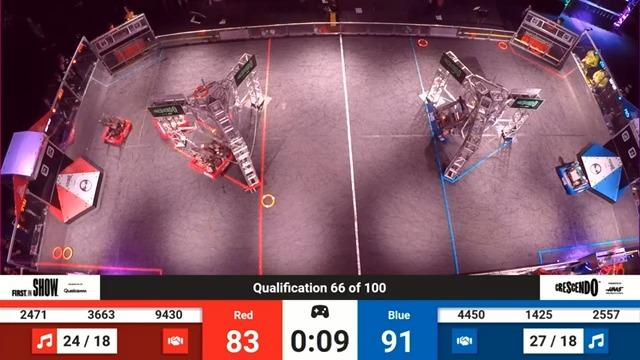robot: (421, 89, 471, 148), (188, 140, 235, 189), (147, 102, 197, 137), (558, 156, 596, 199), (92, 108, 132, 148)
